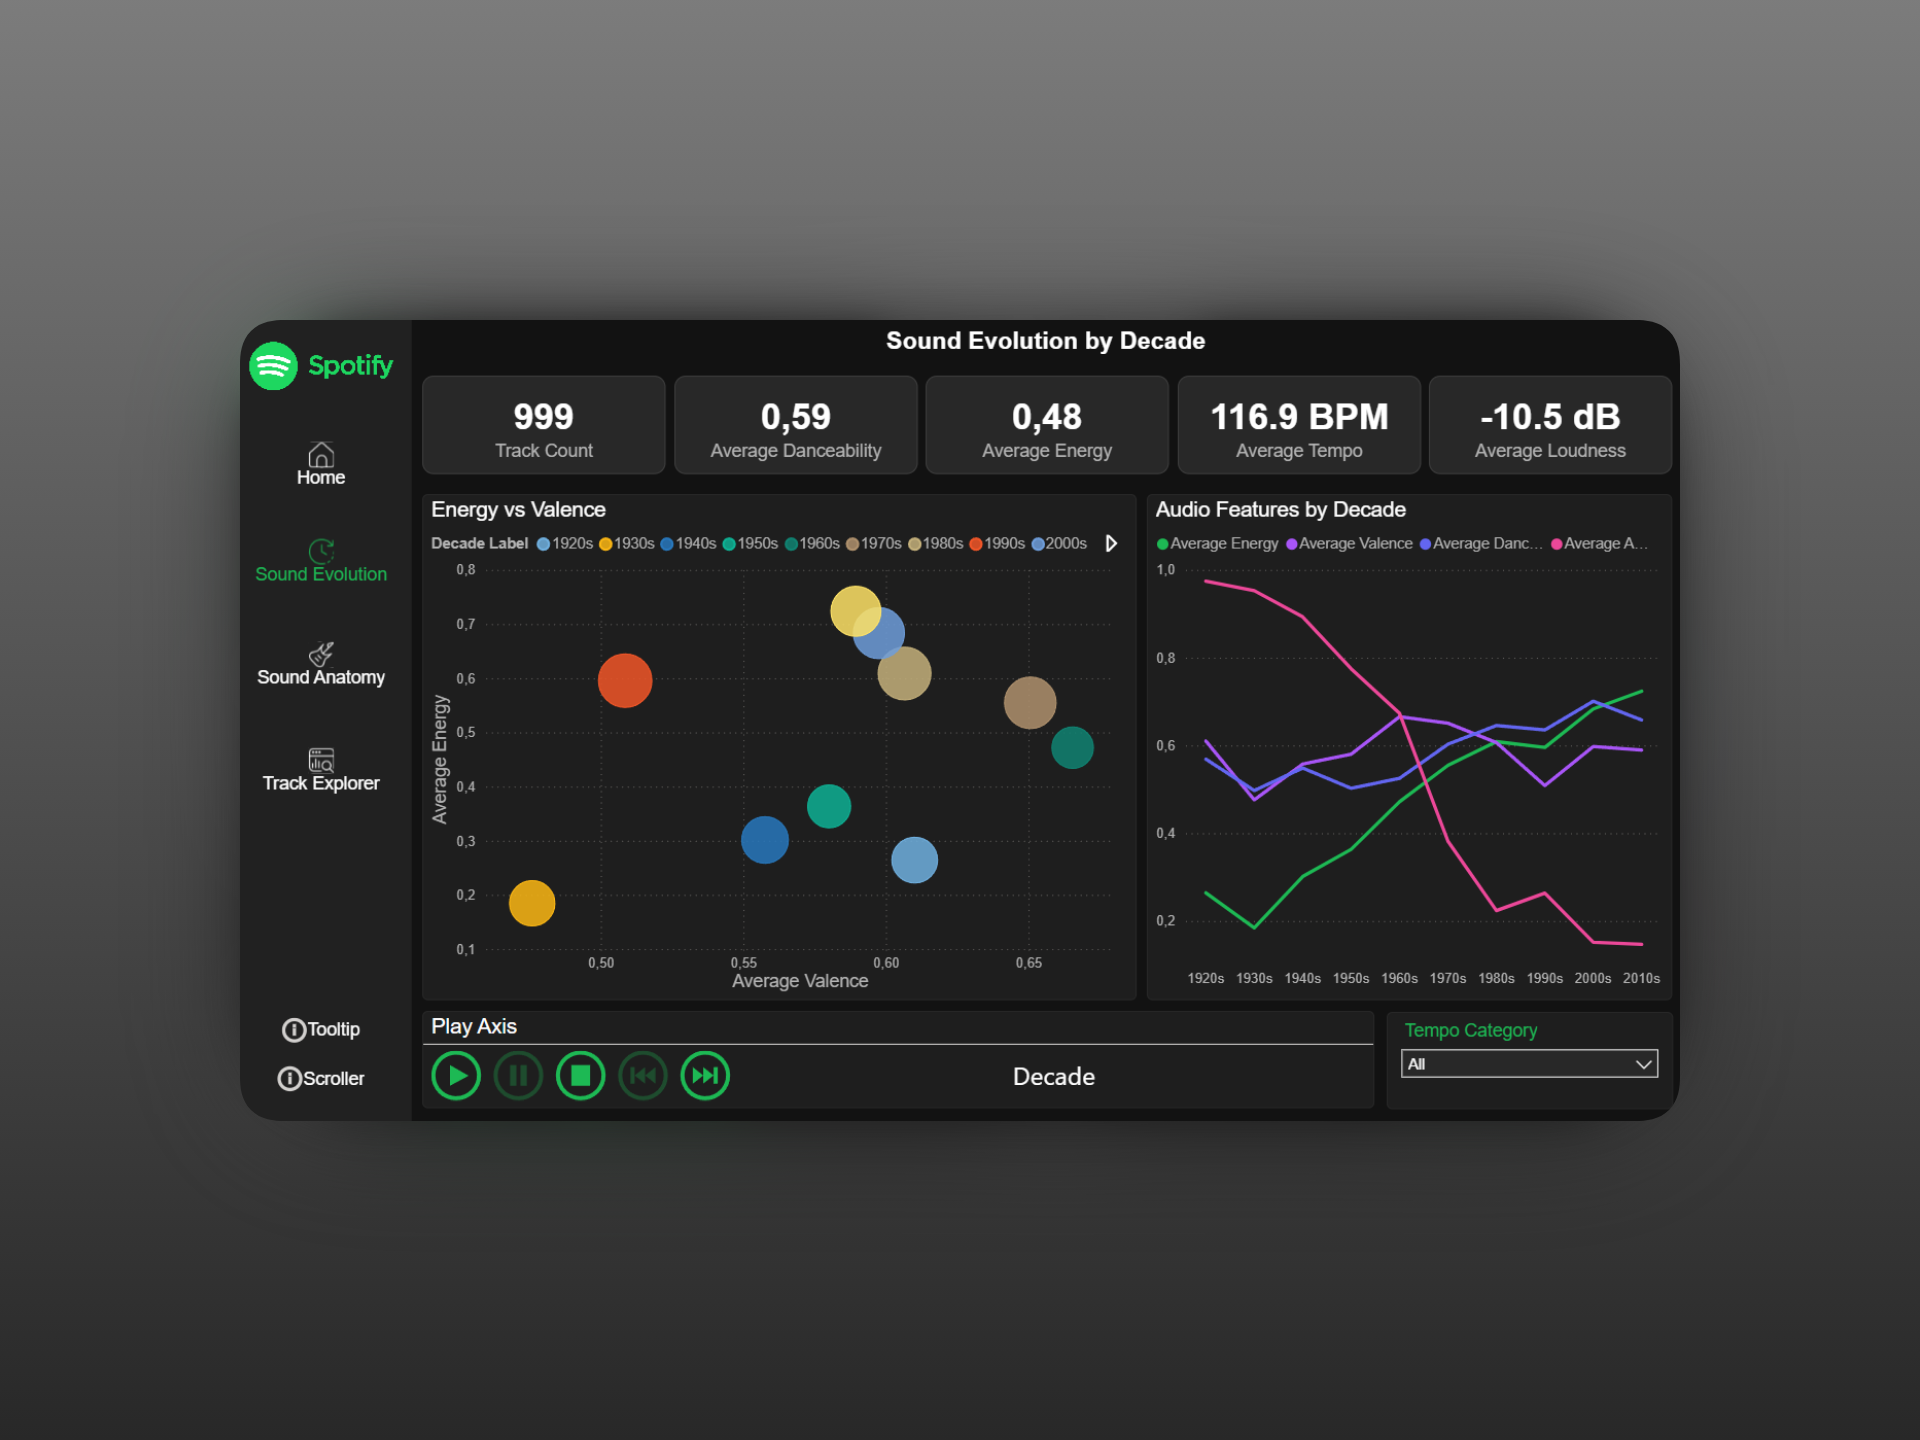

Layout of this report page (visuals, bound fields, positions):
{"tool":"powerbi","page":{"name":"Sound Evolution","canvas":[1280,720],"ordinal":1},"visuals":[{"type":"textbox","box":[159.7,9,1120.3,47.2],"z":0},{"type":"slicer","fields":{"Values":["Songs.Tempo Category"]},"box":[1020.9,618.2,252.7,86.4],"z":1000},{"type":"card","fields":{"Values":["_Measures.Track Count"]},"box":[168.8,56.3,215,87.4],"z":2000},{"type":"card","fields":{"Values":["_Measures.Average Danceability"]},"box":[391.8,56.3,215,87.4],"z":3000},{"type":"shape","box":[0,0,159.7,720.4],"z":4000,"group":"g1"},{"type":"card","fields":{"Values":["_Measures.Average Energy"]},"box":[613.9,56.3,215,87.4],"z":4000},{"type":"card","fields":{"Values":["_Measures.Average Tempo Label"]},"box":[835.9,56.3,215,87.4],"z":5000},{"type":"actionButton","box":[0,109.5,159.7,53.2],"z":5000,"group":"g1"},{"type":"card","fields":{"Values":["_Measures.Average Loudness Label"]},"box":[1058,56.3,215,87.4],"z":6000},{"type":"actionButton","box":[0,194.9,159.7,53.2],"z":6000,"group":"g1"},{"type":"scatterChart","title":"Energy vs Valence","fields":{"X":["Avg(Songs.Valence)"],"Y":["Avg(Songs.Energy)"],"Size":["Avg(Songs.Duration min)"],"Series":["Dim Decade.Decade Label"]},"box":[168.8,160.8,631,447.1],"z":7000},{"type":"actionButton","box":[0,285.3,159.7,53.2],"z":7000,"group":"g1"},{"type":"actionButton","box":[0,378.8,159.7,53.2],"z":8000,"group":"g1"},{"type":"PBI_CV_16948668_E17D_454B_8664_2F2C470EA8C1","title":"Play Axis","fields":{"category":["Dim Decade.Decade"]},"box":[169.1,617.3,840.9,86.4],"z":8000},{"type":"lineChart","title":"Audio Features by Decade","fields":{"Category":["Dim Decade.Decade Label"],"Y":["_Measures.Average Energy","_Measures.Average Valence","_Measures.Average Danceability","_Measures.Average Acousticness"]},"box":[808.8,160.8,464.2,447.1],"z":9000},{"type":"actionButton","box":[0,608,159.4,52.8],"z":9000,"group":"g1"},{"type":"group","id":"g1","title":"Grupa 2","box":[0,0,159.4,720.2],"z":10000},{"type":"actionButton","box":[0,651.1,159.7,53.2],"z":10000,"group":"g1"},{"type":"image","box":[0,0,159.7,95.4],"z":11000,"group":"g1"}]}

Visuals, with their boxes on the page's 1280x720 design canvas (x1, y1, x2, y2). These are canvas units, not pixel positions in the 1920x1440 screenshot, which may show the page scaled, cropped or inside an application window:
textbox: {"left": 160, "top": 9, "right": 1280, "bottom": 56}
slicer - Songs.Tempo Category: {"left": 1021, "top": 618, "right": 1274, "bottom": 705}
card - _Measures.Track Count: {"left": 169, "top": 56, "right": 384, "bottom": 144}
card - _Measures.Average Danceability: {"left": 392, "top": 56, "right": 607, "bottom": 144}
shape: {"left": 0, "top": 0, "right": 160, "bottom": 720}
card - _Measures.Average Energy: {"left": 614, "top": 56, "right": 829, "bottom": 144}
card - _Measures.Average Tempo Label: {"left": 836, "top": 56, "right": 1051, "bottom": 144}
actionButton: {"left": 0, "top": 110, "right": 160, "bottom": 163}
card - _Measures.Average Loudness Label: {"left": 1058, "top": 56, "right": 1273, "bottom": 144}
actionButton: {"left": 0, "top": 195, "right": 160, "bottom": 248}
"Energy vs Valence" scatterChart: {"left": 169, "top": 161, "right": 800, "bottom": 608}
actionButton: {"left": 0, "top": 285, "right": 160, "bottom": 338}
actionButton: {"left": 0, "top": 379, "right": 160, "bottom": 432}
"Play Axis" PBI_CV_16948668_E17D_454B_8664_2F2C470EA8C1: {"left": 169, "top": 617, "right": 1010, "bottom": 704}
"Audio Features by Decade" lineChart: {"left": 809, "top": 161, "right": 1273, "bottom": 608}
actionButton: {"left": 0, "top": 608, "right": 159, "bottom": 661}
"Grupa 2" group: {"left": 0, "top": 0, "right": 159, "bottom": 720}
actionButton: {"left": 0, "top": 651, "right": 160, "bottom": 704}
image: {"left": 0, "top": 0, "right": 160, "bottom": 95}
